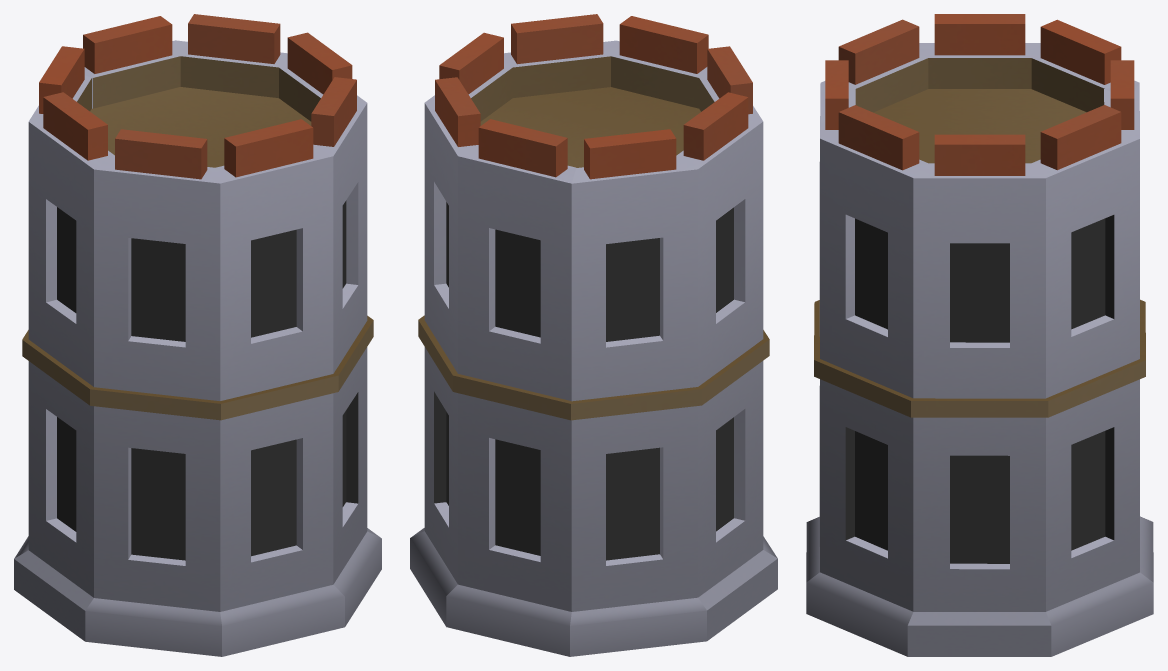
File: cannonTower_tex_001.fbx
3 renders of one model, left to right at view 1: azimuth 30°, elevation 25°; view 2: azimuth 150°, elevation 25°; view 3: azimuth 270°, elevation 25°, orthographic.
Visible parts, largest first — view 1: cannon_tower; view 2: cannon_tower; view 3: cannon_tower.
Part boxes in pixels (x1,y1,x2,y2): cannon_tower: (14, 14, 381, 656); cannon_tower: (410, 14, 777, 656); cannon_tower: (806, 14, 1153, 656).
Bounding box in the file's own units: 60.21 × 96.5 × 60.29.
